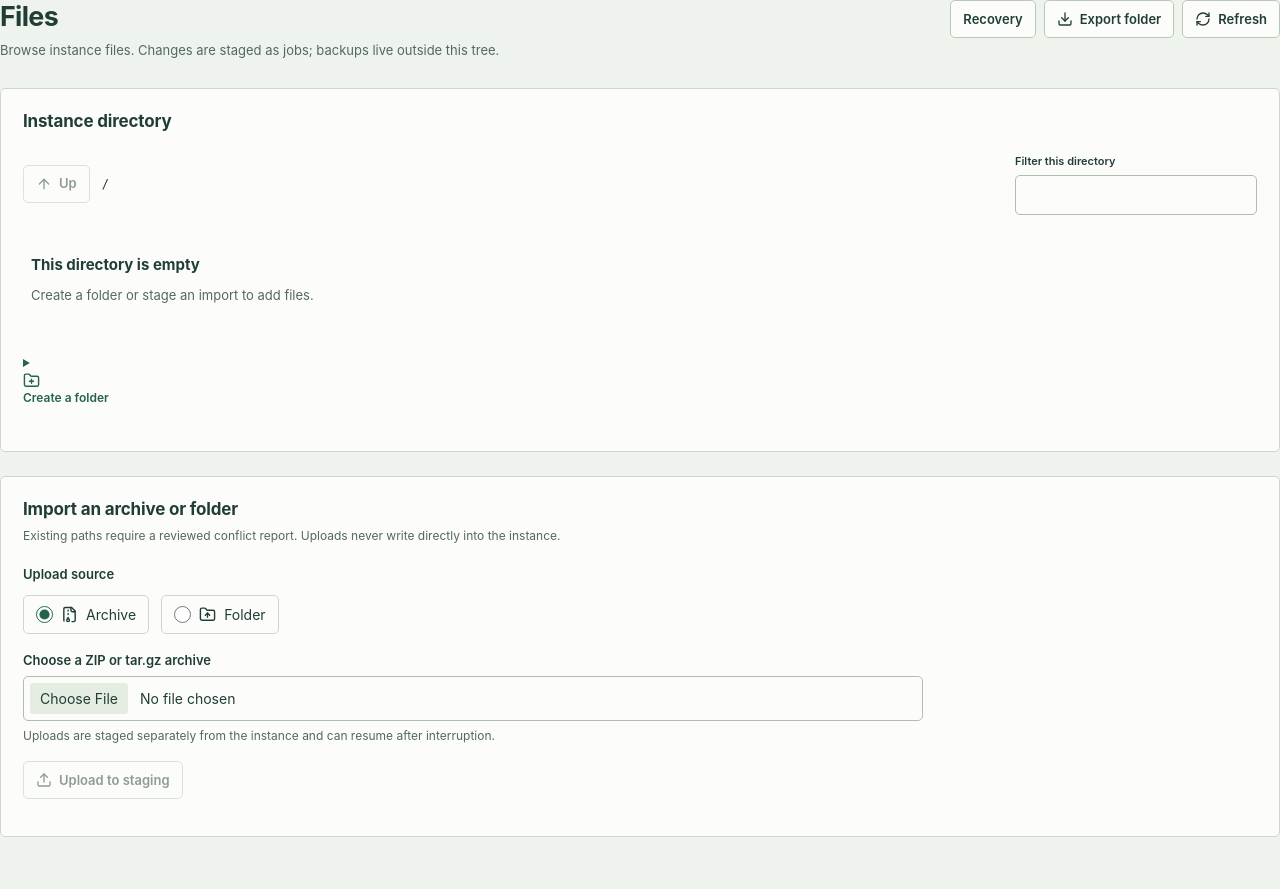
file safety › lists retained paths only when recovery is requested
This screenshot has width=1280, height=889.
Click the button "Recovery" at x=993, y=19, box [950, 0, 1036, 38]
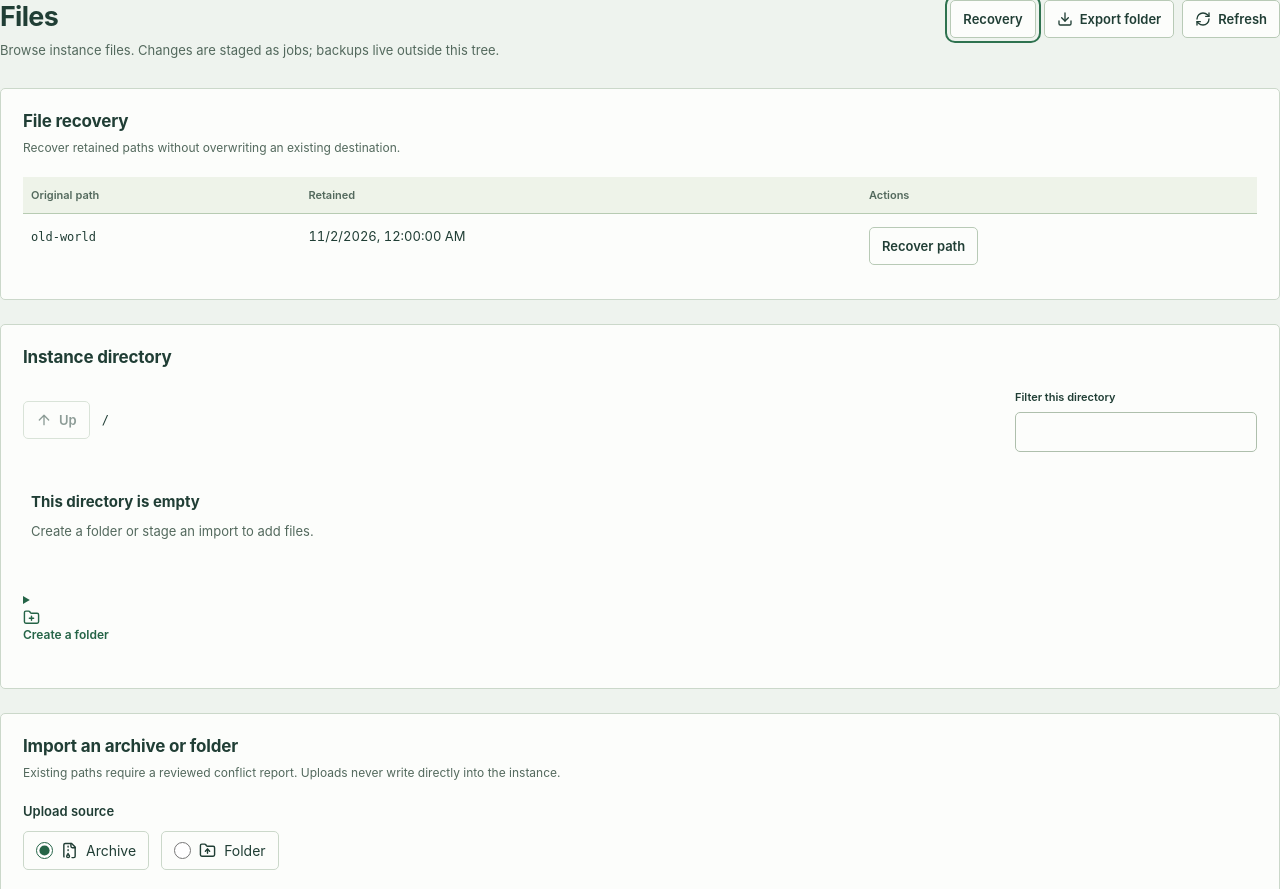
Expected: the text "old-world" is shown, [31, 230, 96, 244]
